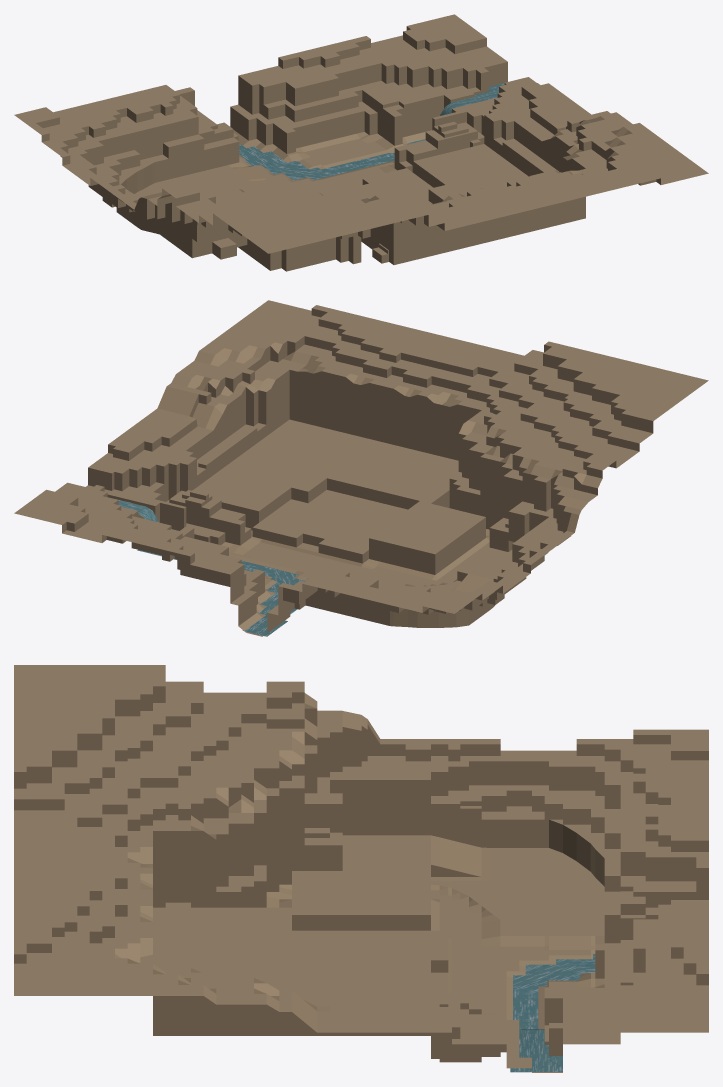
File: lowpolyMAP.fbx
3 renders of one model, top to bottom at view 1: azimuth 30°, elevation 25°; view 2: azimuth 150°, elevation 25°; view 3: azimuth 270°, elevation 25°, orthographic. The views are drawn at different scales.
Visible parts, largest first — view 1: MAP, WATER; view 2: MAP, WATER; view 3: MAP, WATER.
Part boxes in pixels (left/top/right/bottom): MAP: left=14, top=14, right=708, bottom=271; WATER: left=239, top=83, right=504, bottom=180; MAP: left=14, top=300, right=708, bottom=636; WATER: left=108, top=497, right=305, bottom=636; MAP: left=14, top=665, right=708, bottom=1072; WATER: left=510, top=954, right=595, bottom=1072.
Size of the model in its own units: 20000 by 5074 by 20000.
